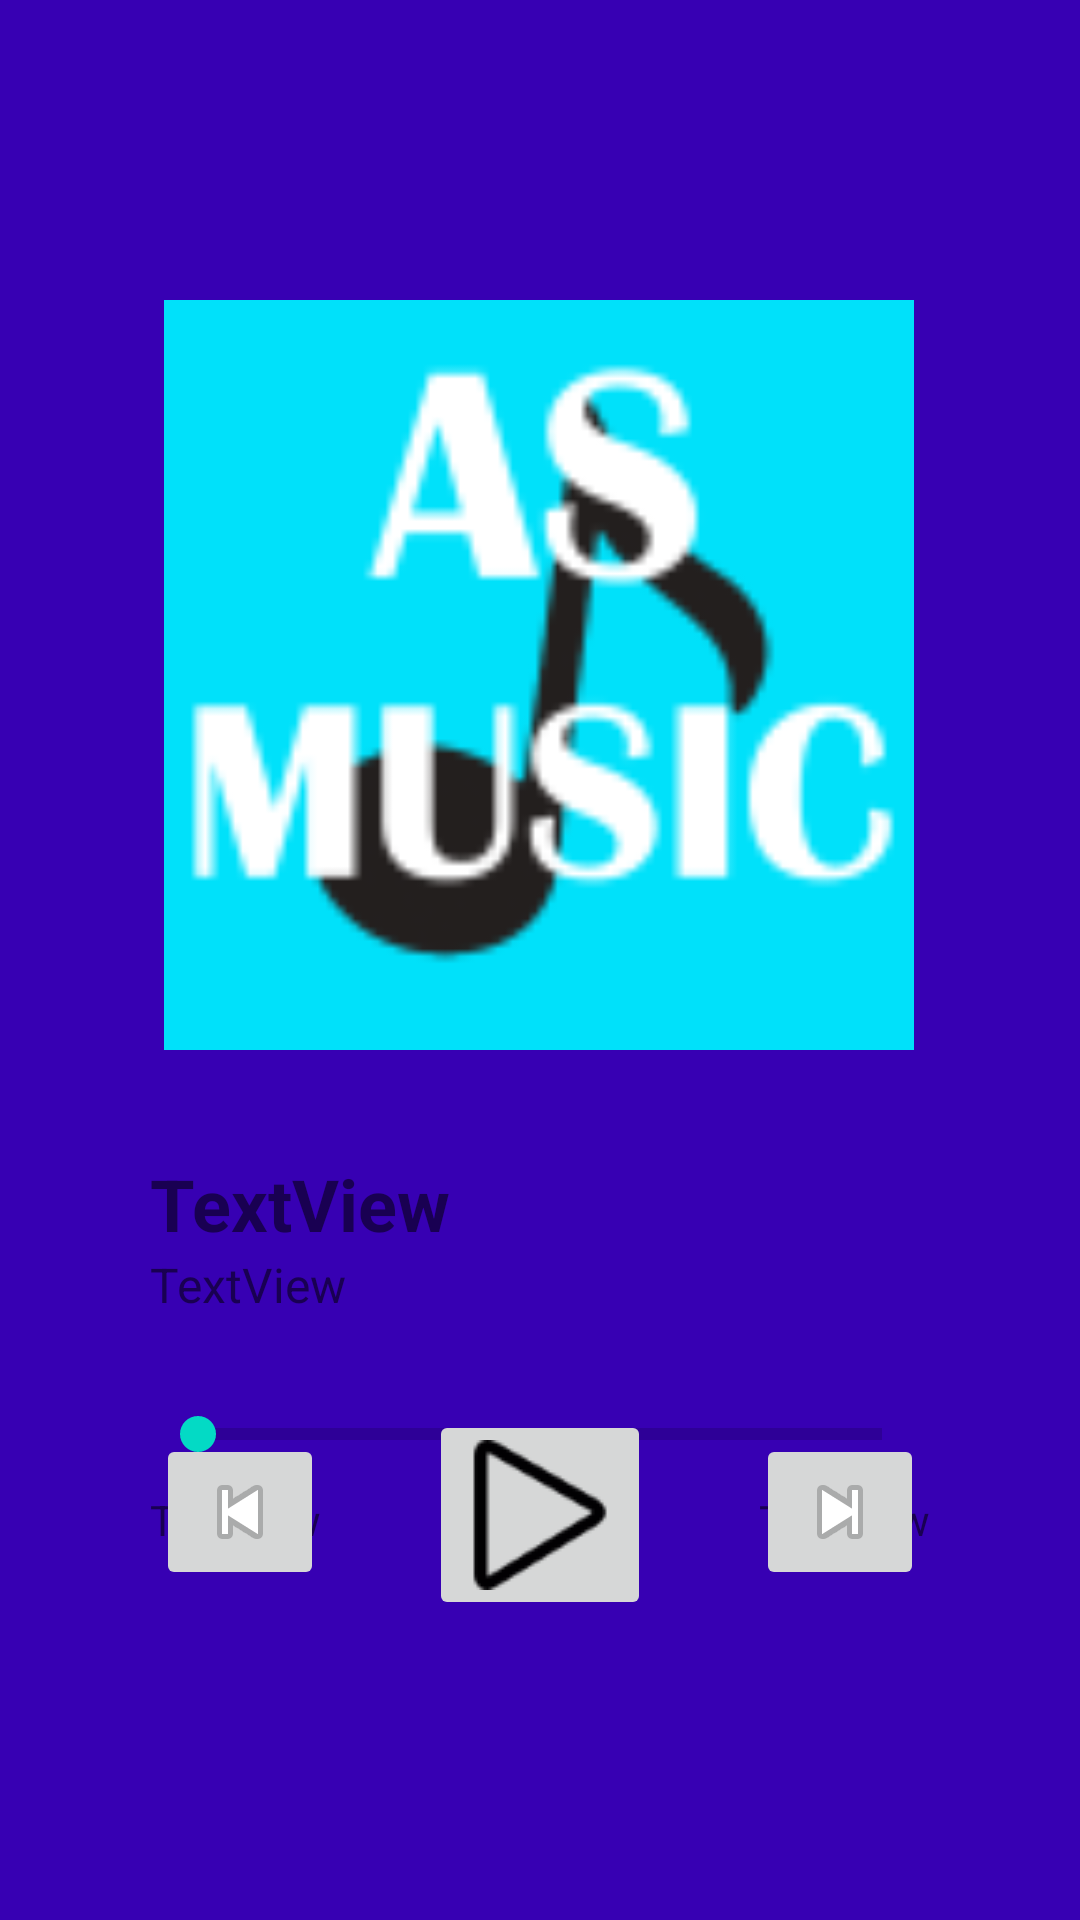

Screen size 1080px×1920px. Icon name, then its center in pixels as (x,y):
next: (842,1512)
play: (540,1515)
previous: (240,1503)
